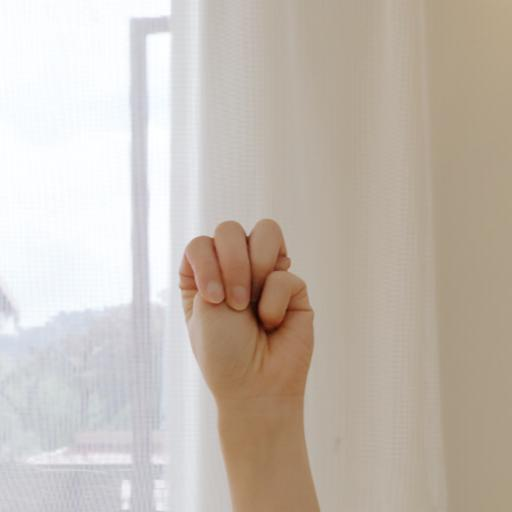M: (176, 216, 319, 410)
